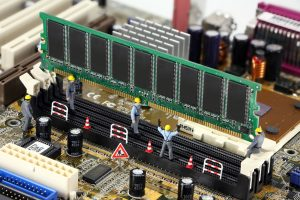ram: (38, 11, 263, 144)
